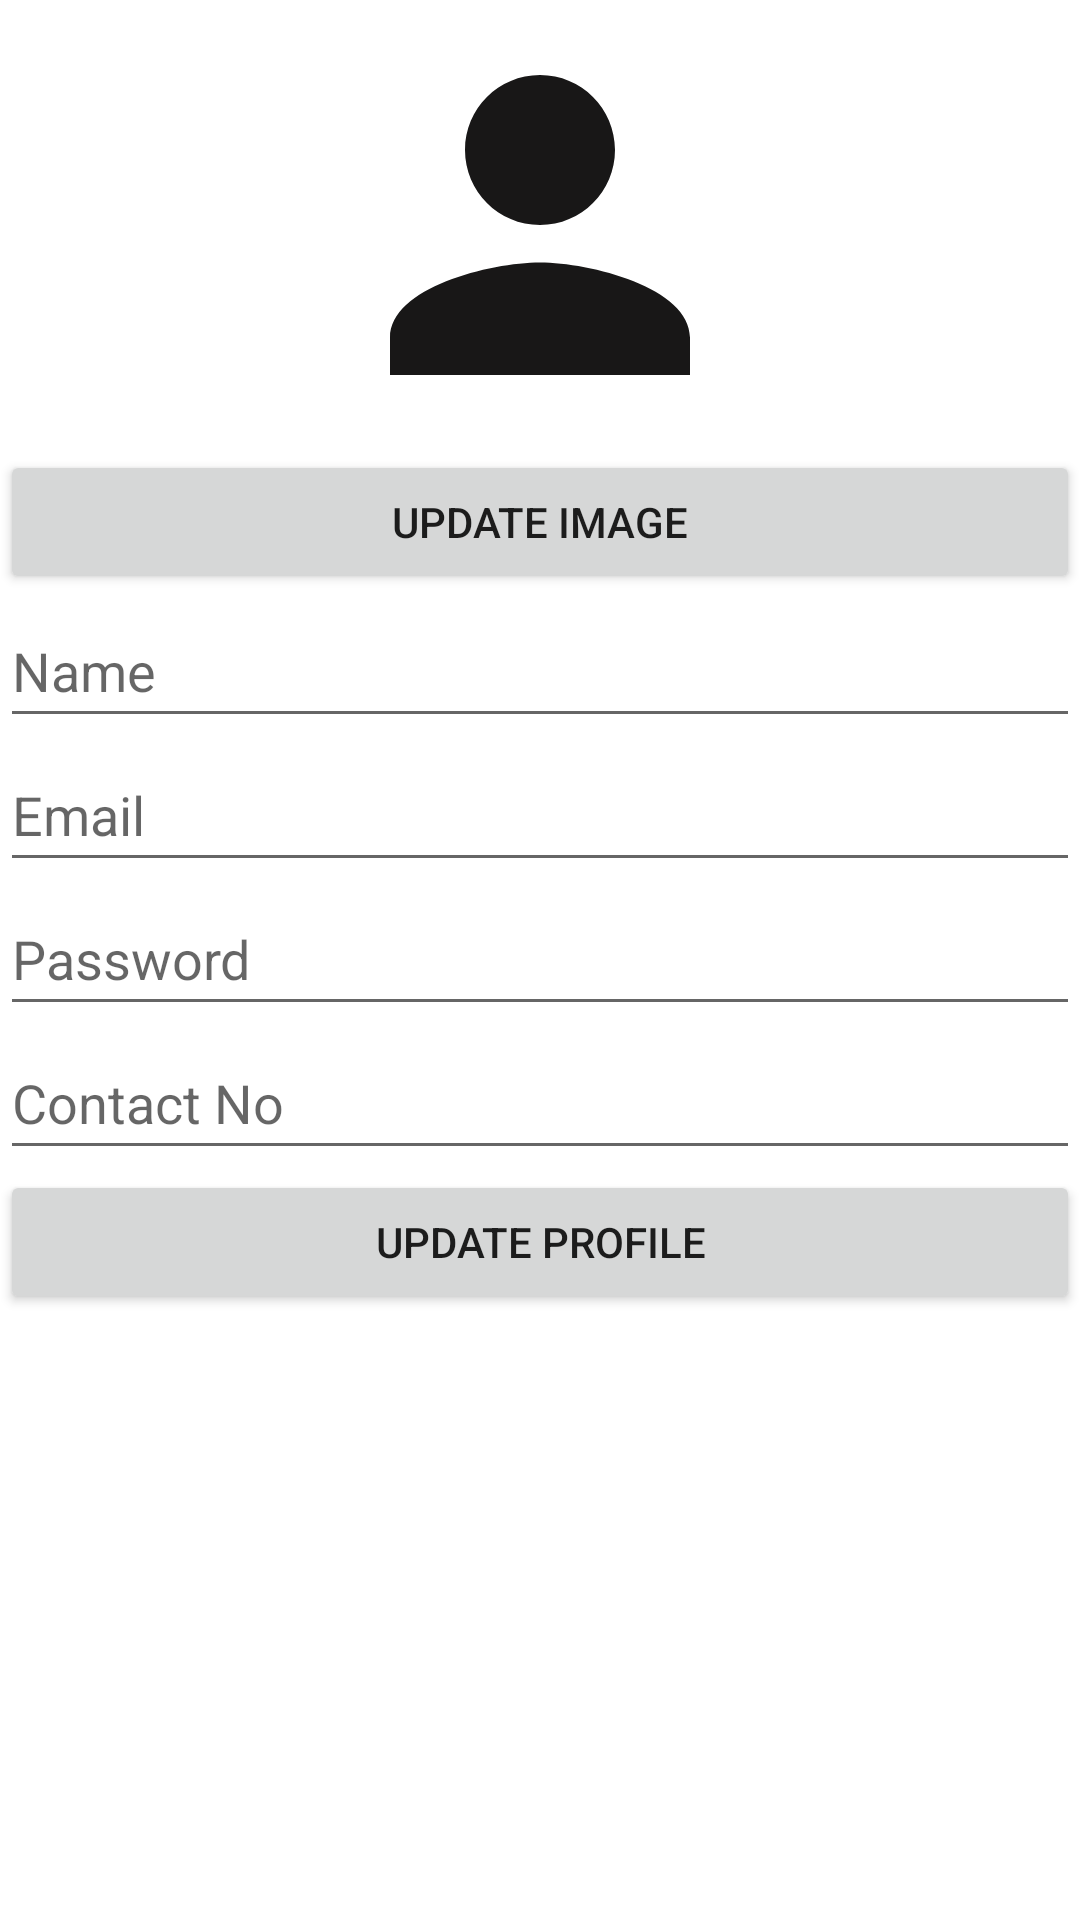

Icon click points for this 1080 × 1920 phone screenshot, format (x,y):
person: (540,225)
